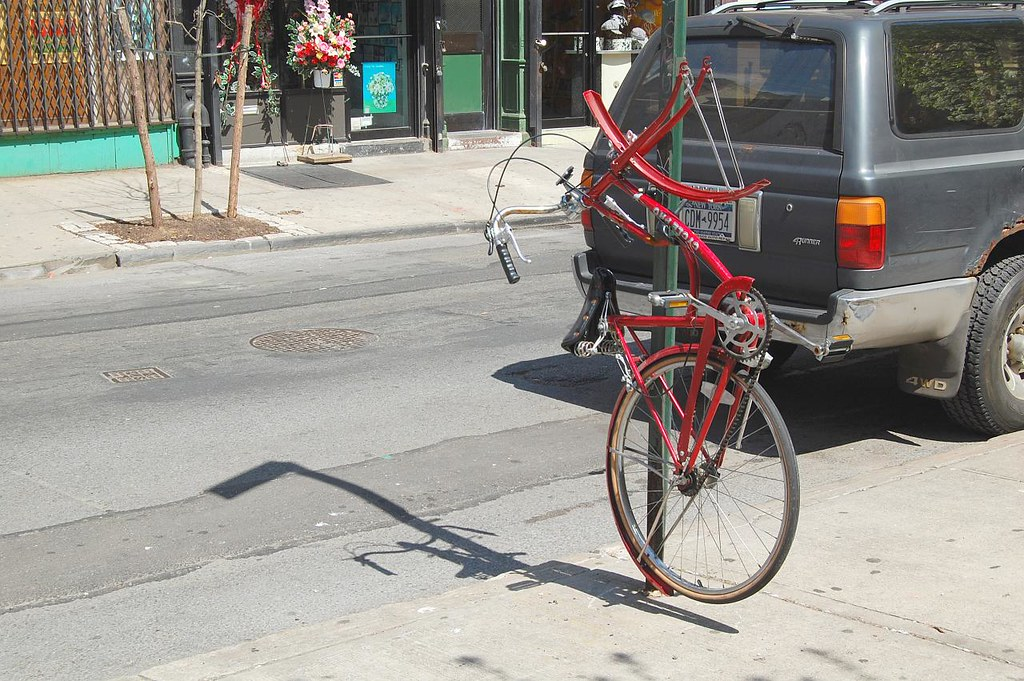bicycle: (494, 61, 824, 614)
